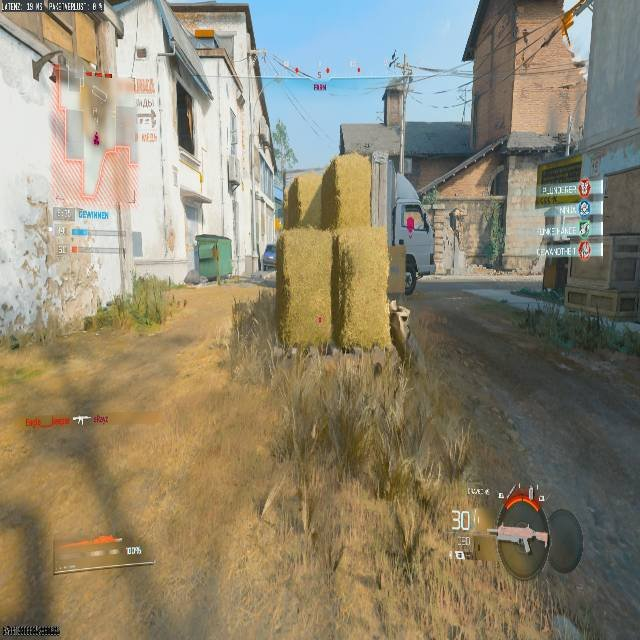player: (405, 215, 414, 238), (529, 256, 538, 273)
